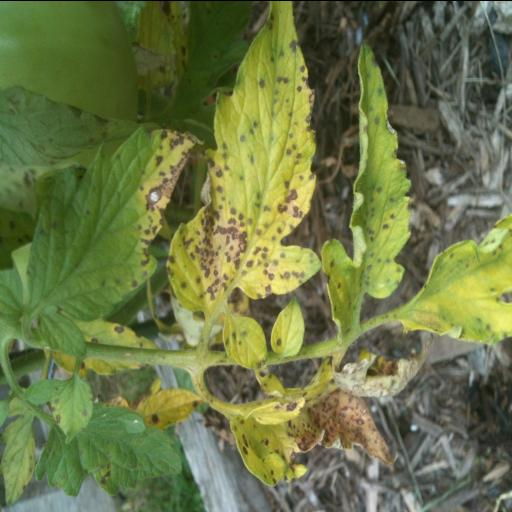Septoria: (164, 0, 324, 317), (18, 124, 206, 358), (317, 38, 413, 342), (226, 370, 398, 494), (398, 214, 512, 346), (75, 402, 183, 498), (51, 371, 95, 446), (218, 312, 268, 368), (268, 291, 307, 357)
